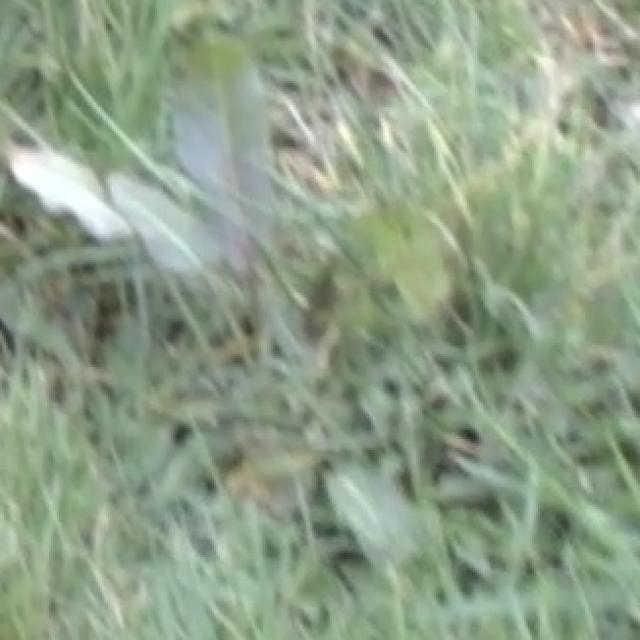organic waste: (0, 32, 322, 324)
